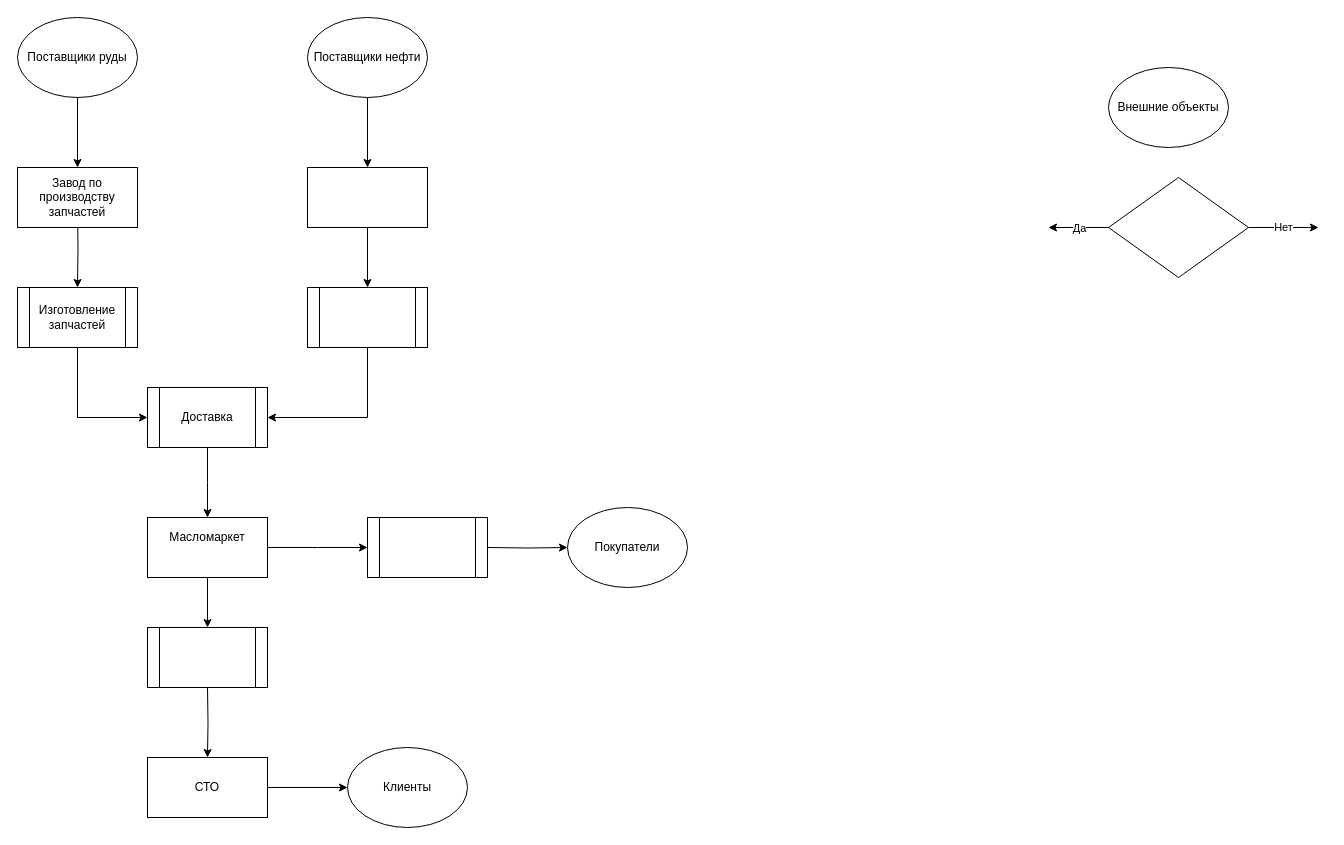
Some shapes in this 1344 by 845 pixel diagram are drawn without their labels. Here are the shapes that lost their labels. From the top down, the centre of each, then its label:
pixel 367 197: Завод по производству масла
pixel 1178 227: Хорошая погода
pixel 367 317: Изготовление масла
pixel 427 547: Продажа товаров
pixel 207 657: Поставка масла и запчастей
